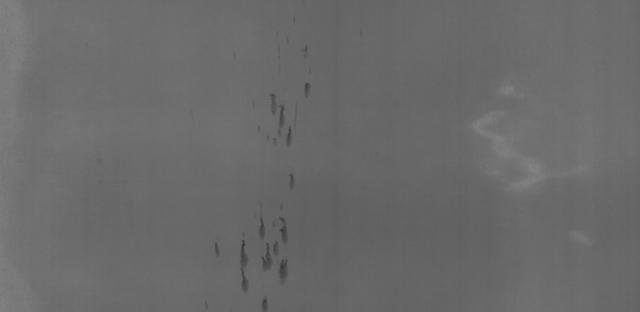oil_spot: (213, 210, 299, 306), (258, 67, 313, 146), (284, 168, 300, 193)
